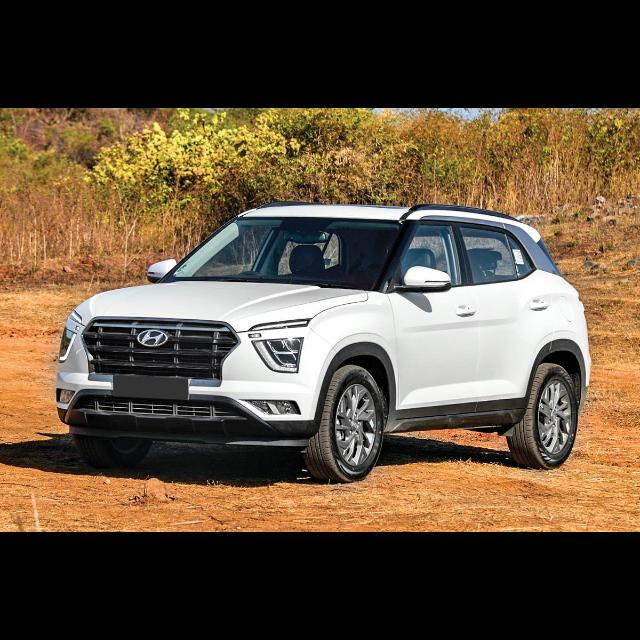number-plate: (111, 374, 190, 401)
vehicles: (53, 205, 591, 489)
